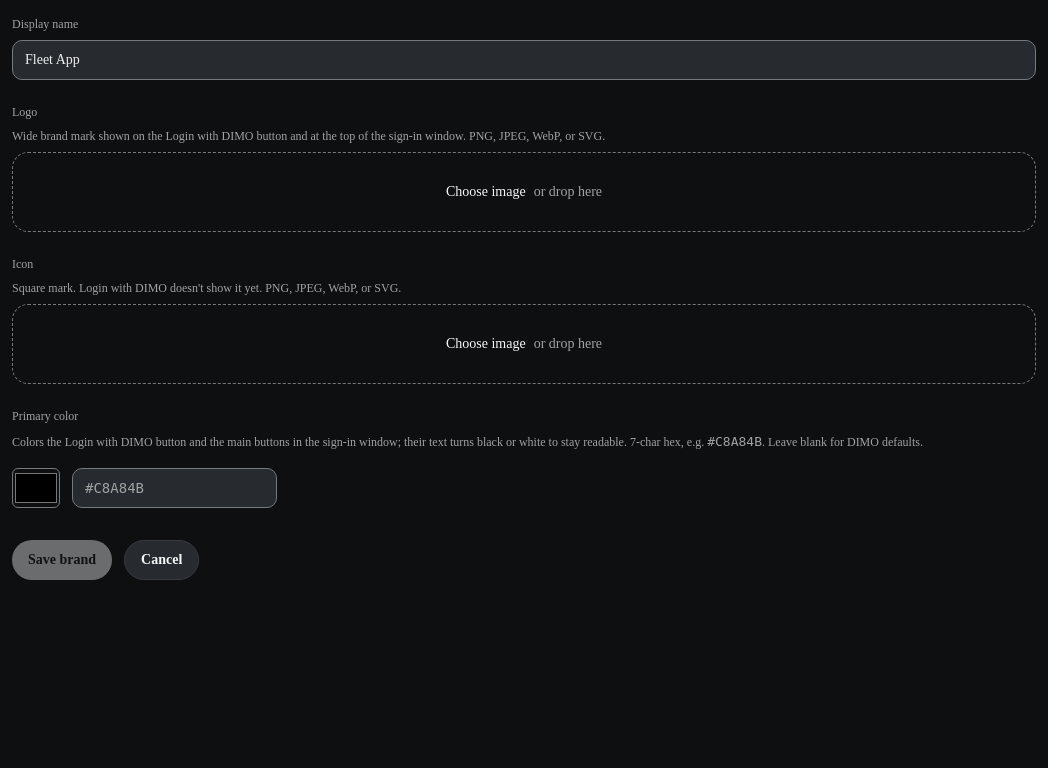
Scenario: BrandForm › shows rename warning when name is changed on an existing brand
Step 1. Replace the text in the field showing "Fleet App" with "Fleet App 2" → (524, 60), box [25,50,1023,70]
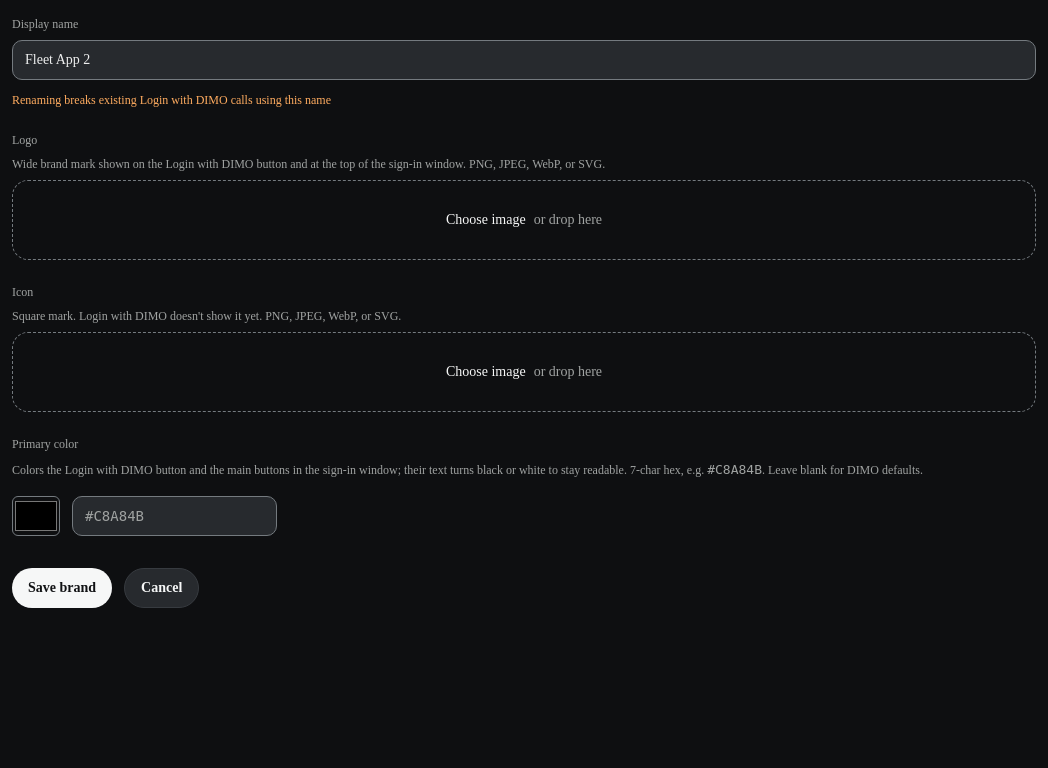
Expected: the text "Renaming breaks existing Login with DIMO calls" is shown, [12,93,331,107]
